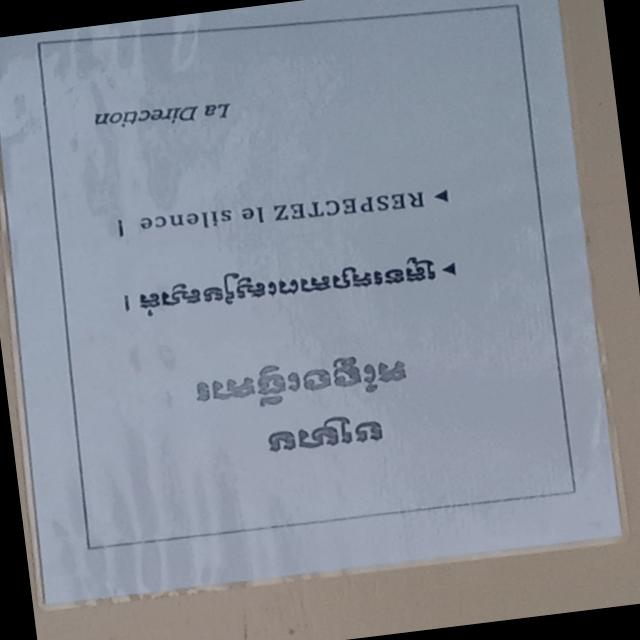Yolov11kh: (127, 248, 440, 325), (174, 345, 413, 420), (250, 401, 396, 471)
